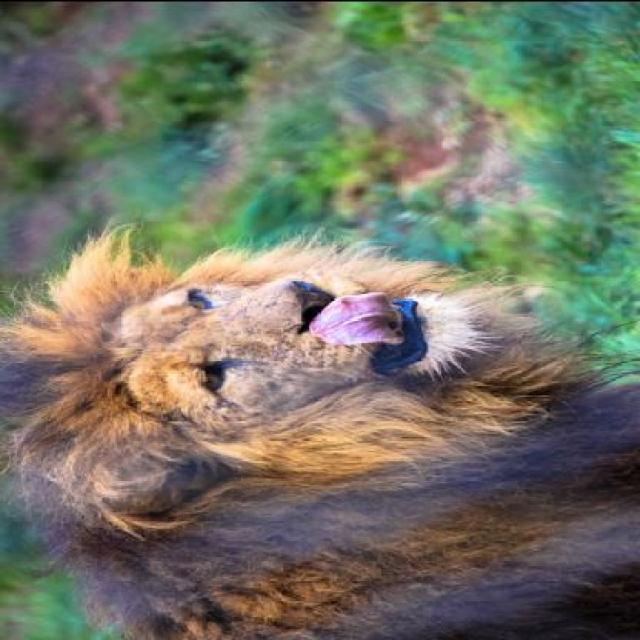Lion: (12, 209, 638, 637)
